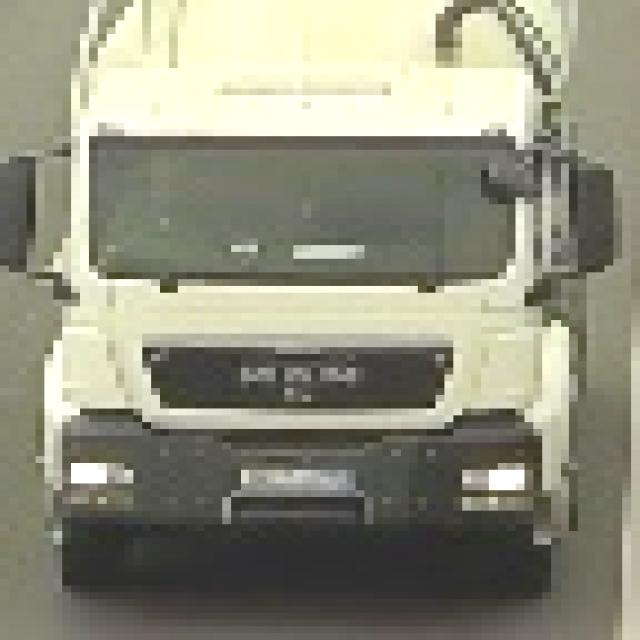truck: (1, 1, 614, 593)
